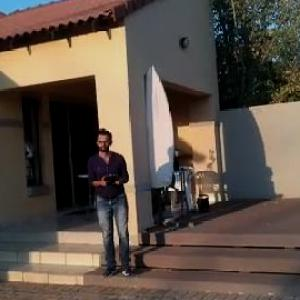follow: (80, 124, 132, 284)
